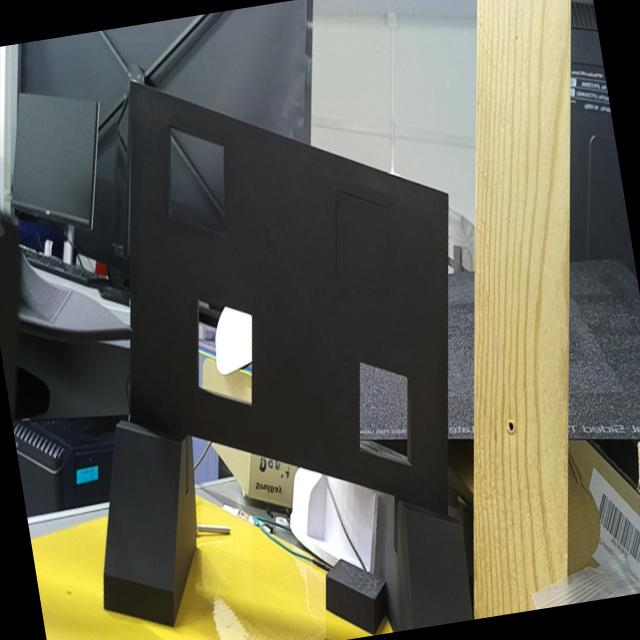Obstacle: (198, 300, 253, 403), (168, 129, 223, 230), (359, 361, 410, 462)
Wall: (130, 85, 448, 511)
